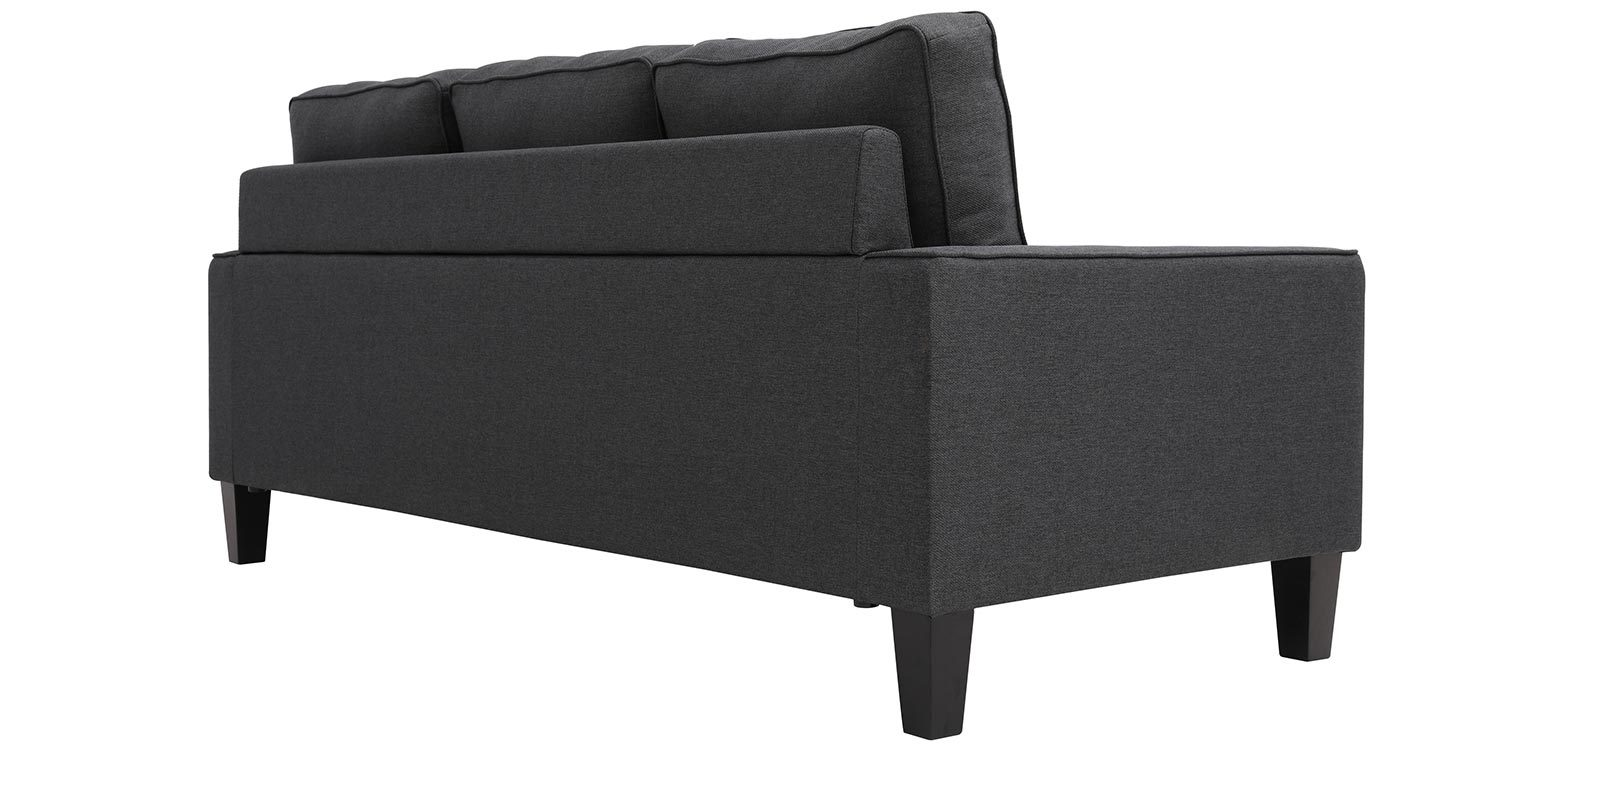Alice Three Seater Sofa in Grey Colour by Zofa: (198, 5, 1366, 715)
